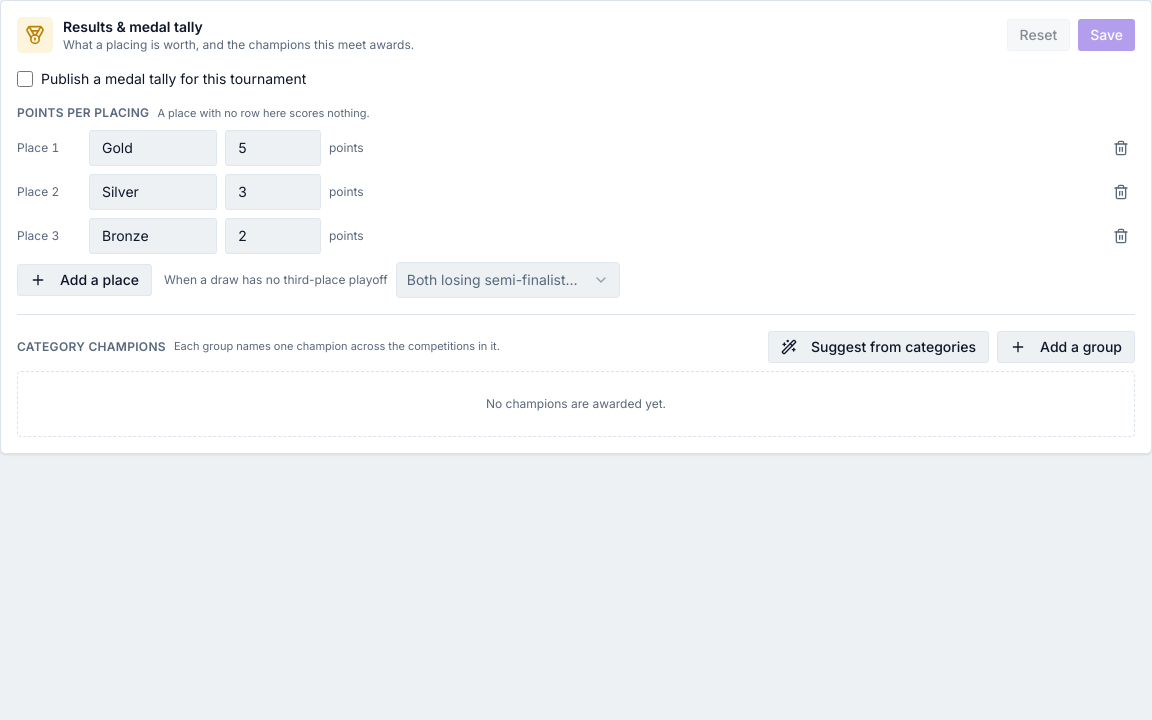
AwardsSettingsCard › offers groups read off the category tree, spanning sports
This screenshot has width=1152, height=720.
Click the button with test id "awards-suggest" at (879, 346), box [768,330,989,362]
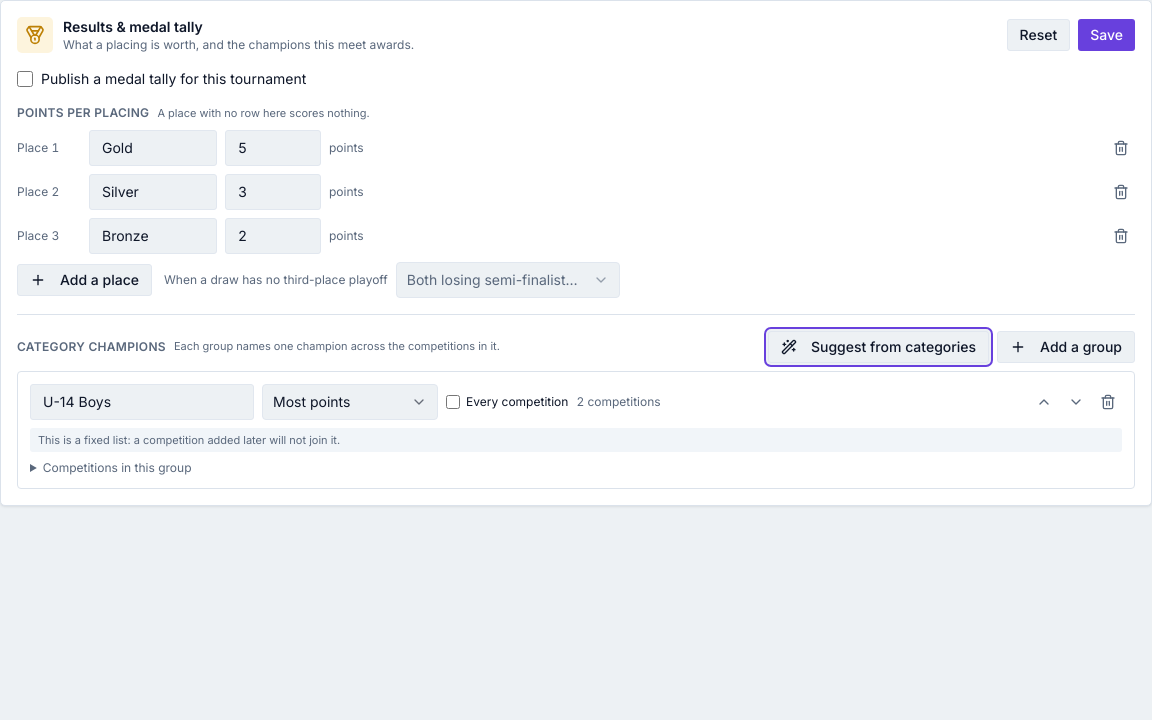
Expected: the field named "Group name" holds "U-14 Boys", [30,384,254,420]
Expected: the list item with test id "awards-group-0" shows "2 competitions", [17,370,1135,489]
